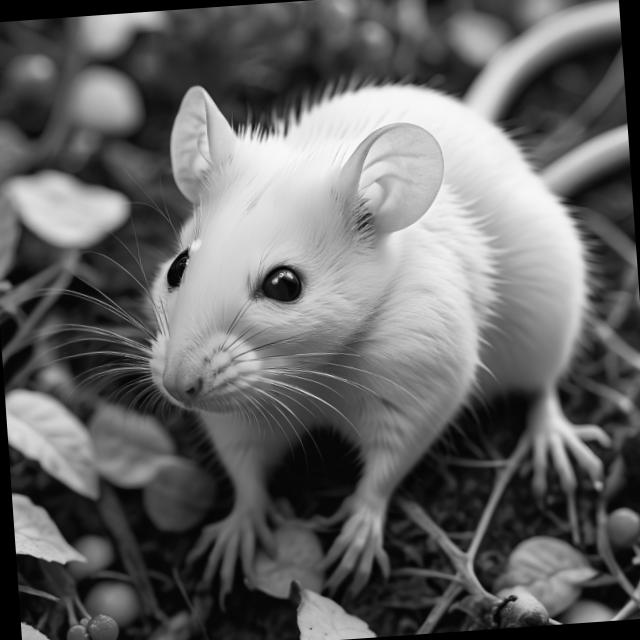rodent: (54, 51, 622, 510)
